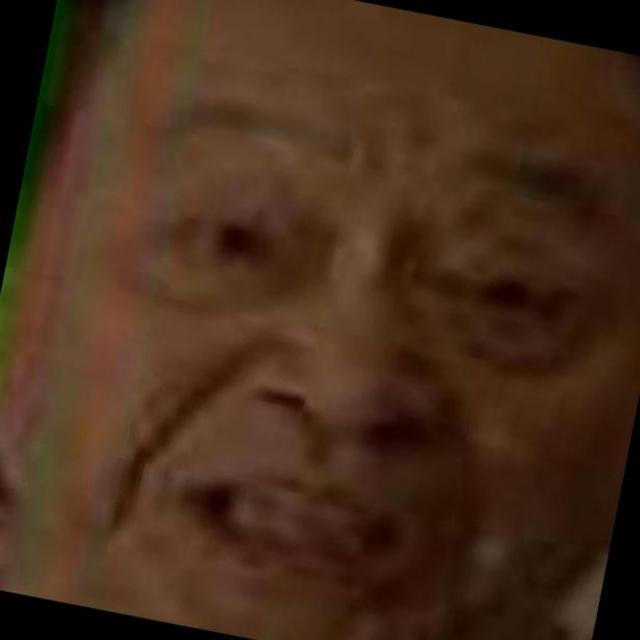Angry: (78, 74, 640, 640)
